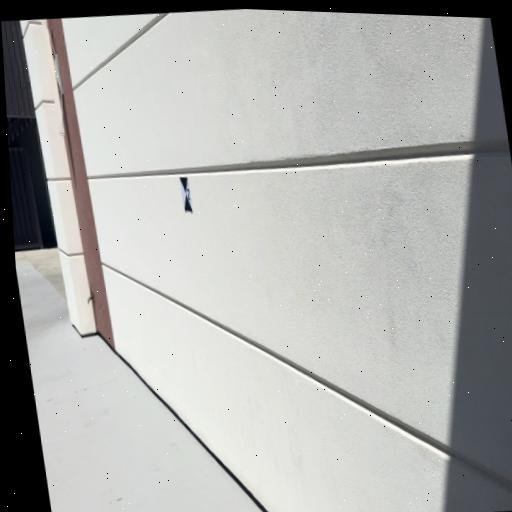target7: (179, 177, 193, 211)
